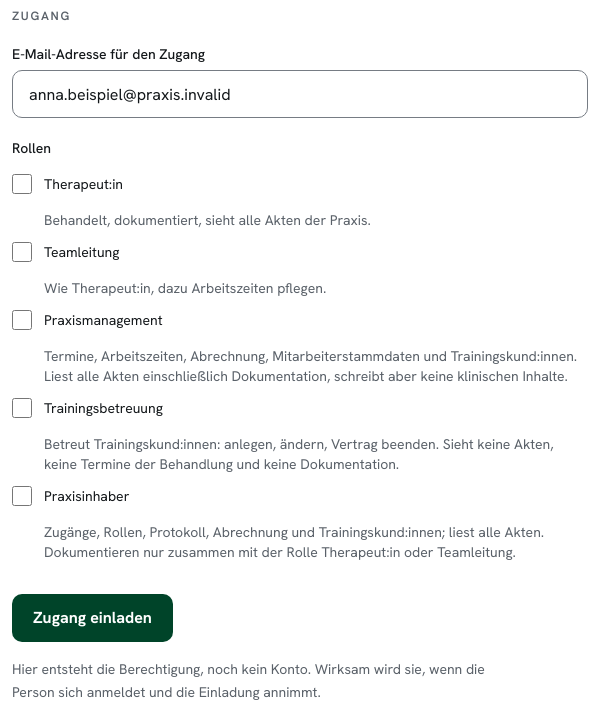
Test case: StaffAccountSection › verlangt eine brauchbare Adresse - am Feld (ORG-15)
This screenshot has width=609, height=711.
Replace the text in the field labelled "E-Mail-Adresse für den Zugang" with "kein-at-zeichen": (300, 94) x1=12 y1=70 x2=588 y2=118
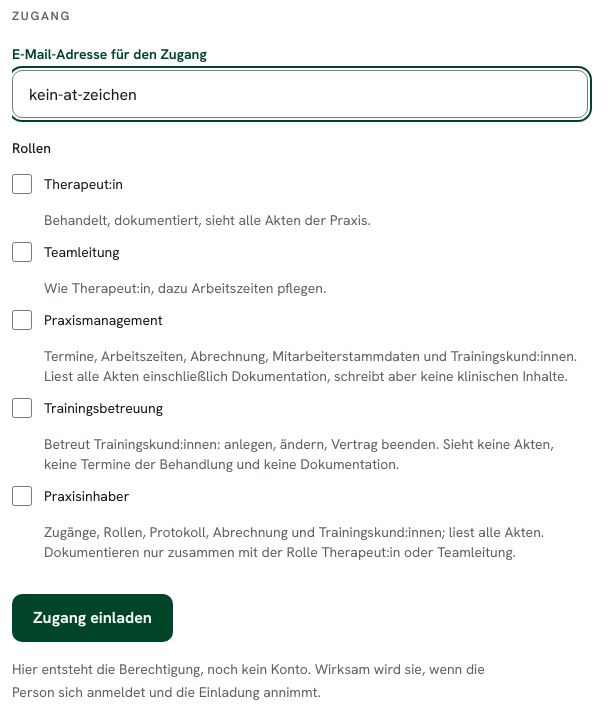
Click the button "Zugang einladen": (92, 618) x1=12 y1=594 x2=173 y2=642
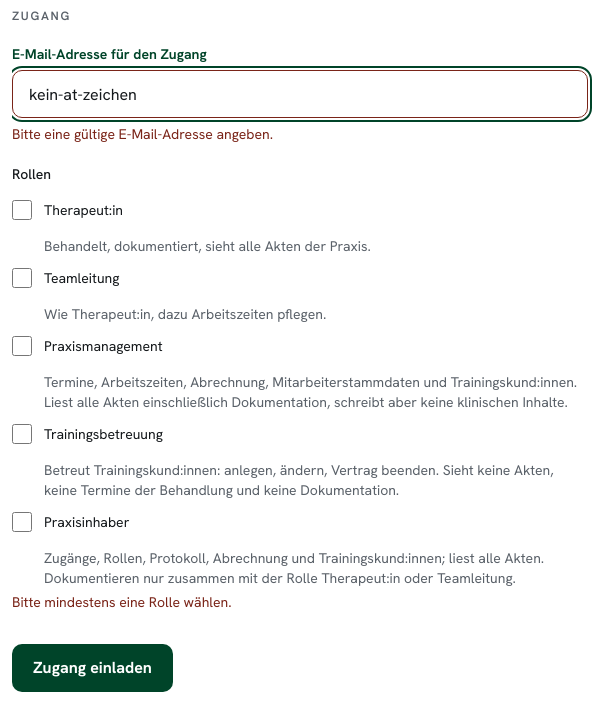
Now the text "Bitte eine gültige E-Mail-Adresse angeben." is shown, box x1=12 y1=125 x2=273 y2=143
